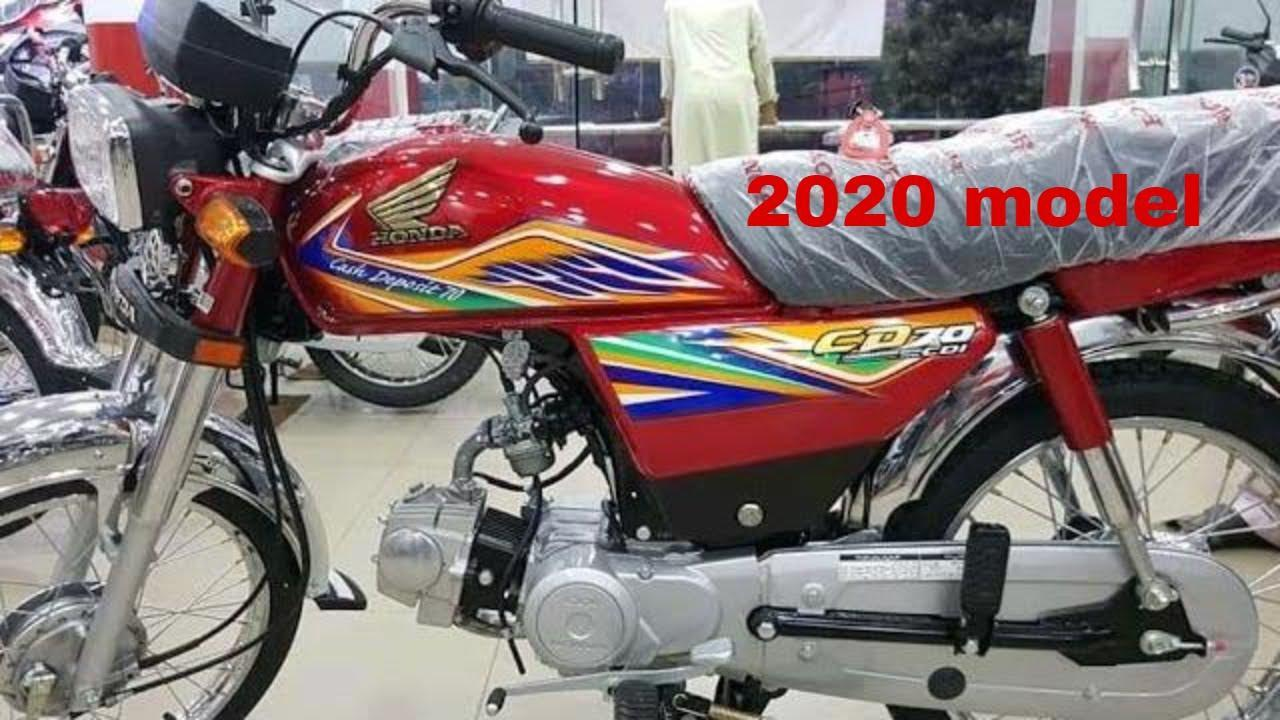bike: (1, 10, 1280, 720)
